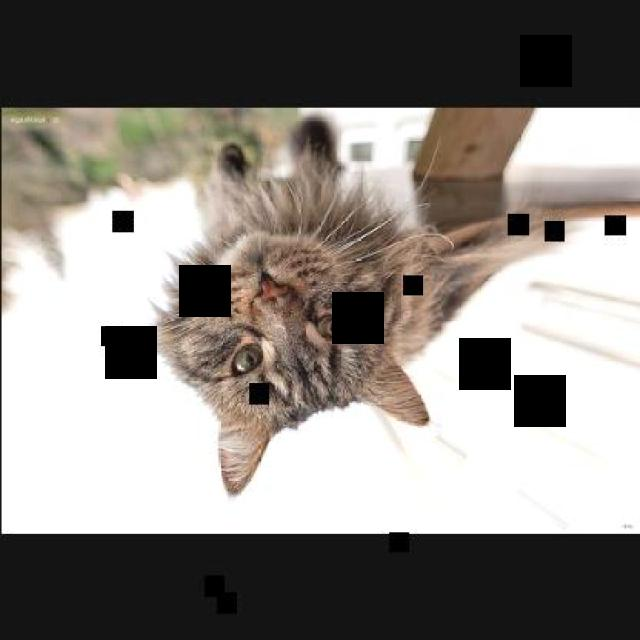unauthorized: (143, 114, 531, 494)
